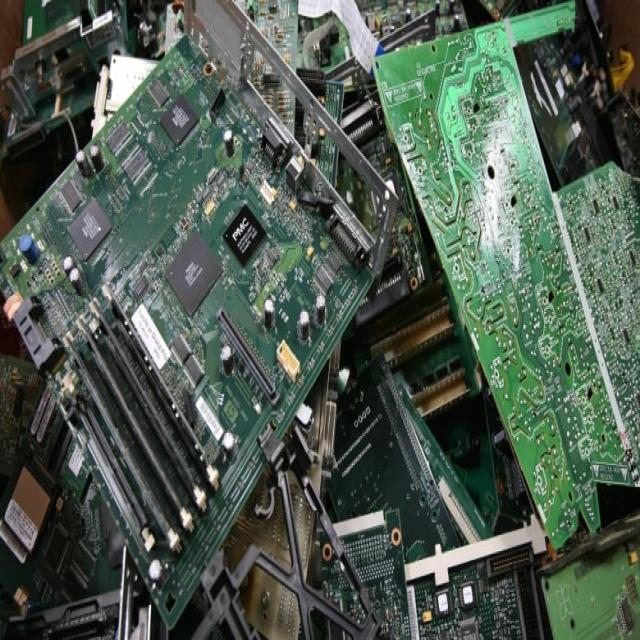hazard: (0, 6, 640, 631)
